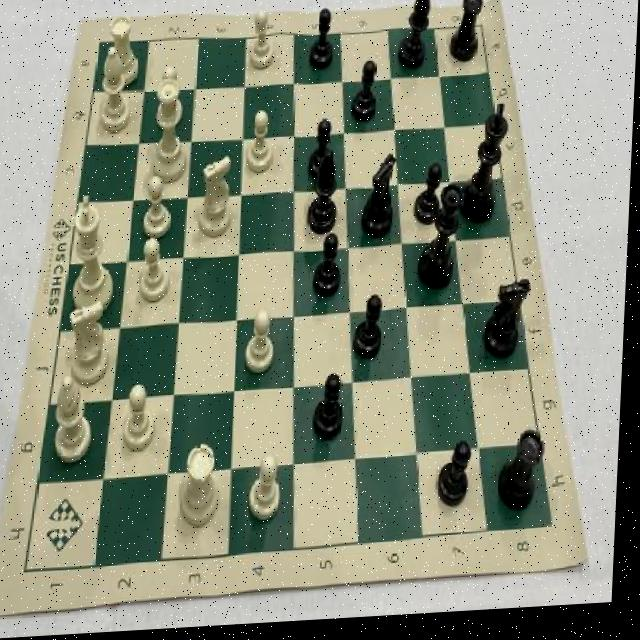bishop: (302, 153, 344, 243), (398, 0, 433, 77)
black-bishop: (464, 105, 514, 233)
black-king: (486, 284, 535, 367), (362, 155, 400, 245)
black-knight: (315, 372, 352, 448), (440, 443, 477, 515), (356, 295, 389, 368), (308, 121, 341, 190), (317, 234, 348, 302), (350, 62, 380, 129), (307, 10, 337, 76), (416, 165, 444, 233)
black-pawn: (421, 187, 467, 295)
black-queen: (499, 432, 551, 522), (448, 0, 486, 72)
black-rook: (54, 376, 100, 467), (97, 48, 136, 136)
white-bishop: (72, 193, 122, 319)
white-king: (65, 302, 116, 388), (197, 156, 238, 245)
white-knight: (249, 453, 288, 528), (125, 384, 162, 456), (245, 309, 280, 380), (138, 239, 175, 305), (143, 178, 178, 244), (246, 112, 277, 178), (248, 12, 278, 78), (158, 67, 187, 128)
white-pawn: (147, 80, 195, 188)
white-queen: (183, 442, 229, 533), (109, 13, 142, 93)
